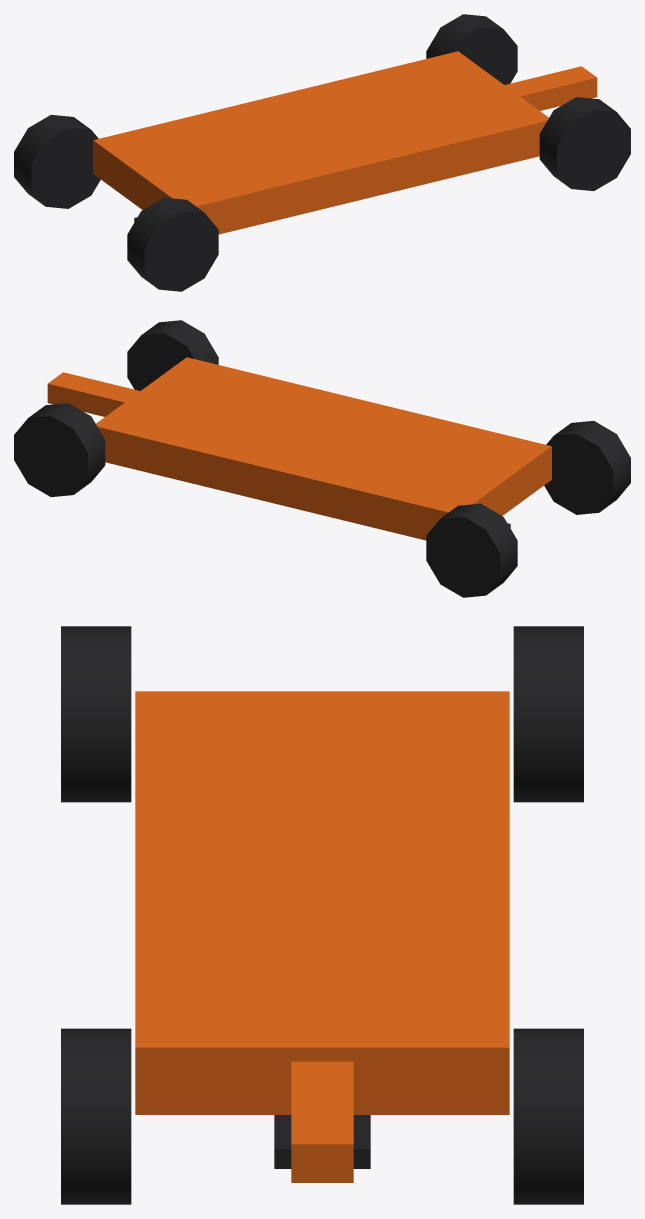
The model's file is workzone_arrow_board.obj.
3 views of the same model, one above another, from view 1: azimuth 30°, elevation 25°; view 2: azimuth 150°, elevation 25°; view 3: azimuth 270°, elevation 25° (orthographic). The views are drawn at different scales.
Visible parts, largest first — view 1: workzone_arrow_board; view 2: workzone_arrow_board; view 3: workzone_arrow_board.
Boxes of the visible parts, box(x1,y1,x2,y2) form: workzone_arrow_board: box(14, 14, 630, 291); workzone_arrow_board: box(14, 320, 630, 597); workzone_arrow_board: box(61, 626, 583, 1204).
Size of the model in its own units: 3.96 by 0.6037 by 1.76.
